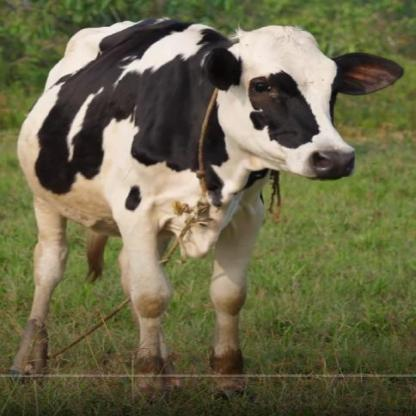cow: (20, 19, 400, 400)
